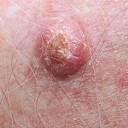Melanoma: (38, 23, 88, 76)
